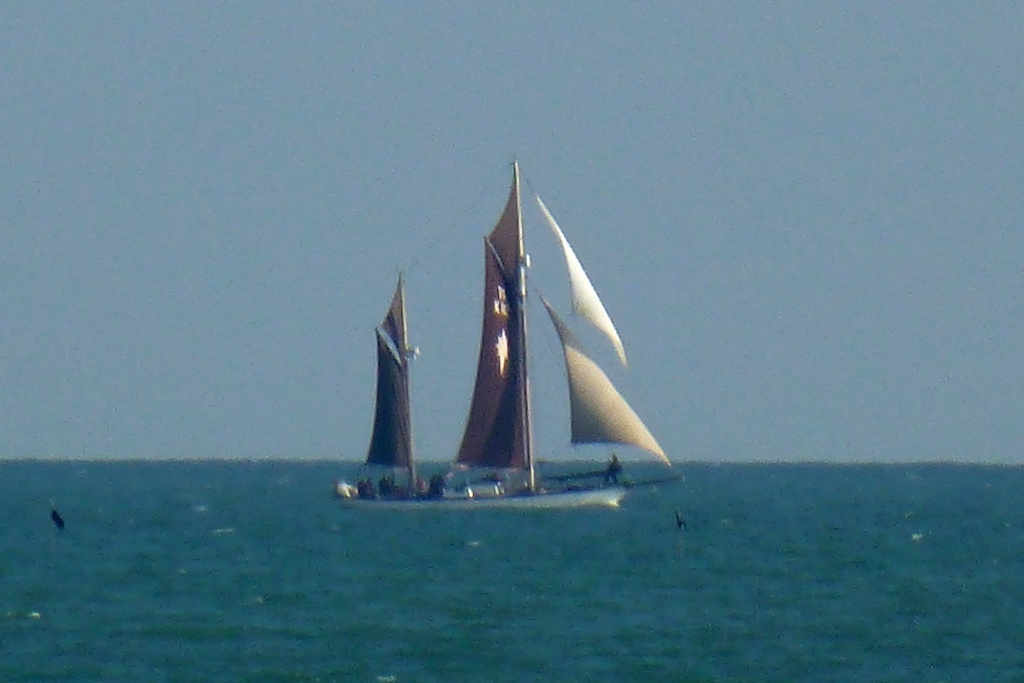boat: (327, 143, 710, 537)
